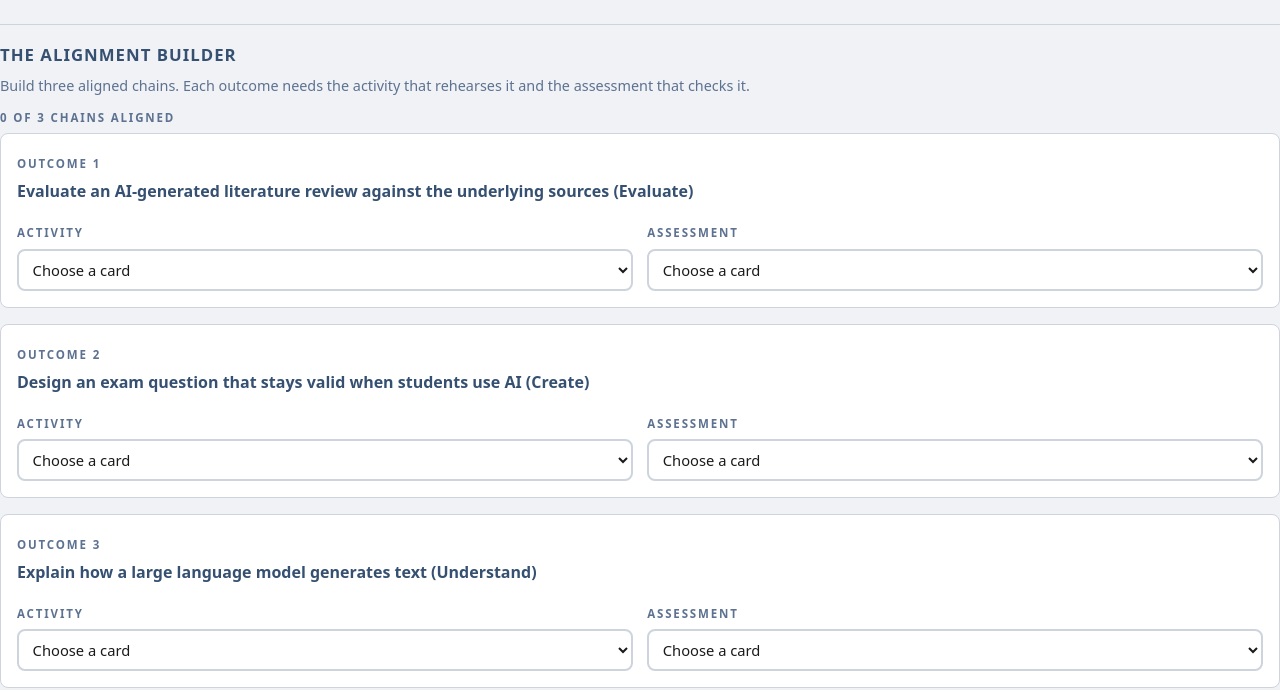
Test: AlignmentBuilder › snaps back misaligned cards with an explanation and does not solve
A distractor snaps back with its own feedback.
Select "Watch a recorded lecture about AI and integrity" in the 1st dropdown labelled "Activity" at (325, 270), box top-left (17, 249), bottom-right (633, 291)
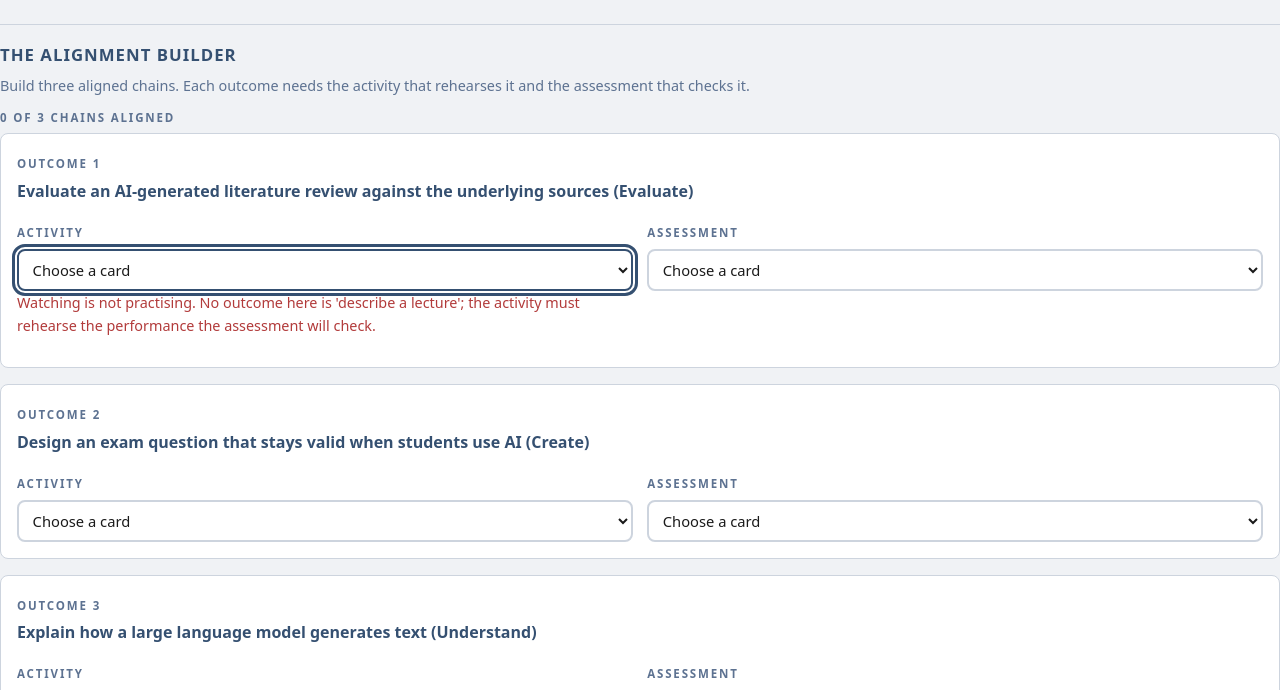
Result: the text "Watching is not practising. No outcome here is 'describe a lecture'; the activity must rehearse the performance the asse" is shown at top-left (17, 293), bottom-right (580, 335)
Another chain's card is misaligned here: generic Bloom-level explanation.
Select "Draft questions with a toetsmatrijs, exchange peer feedback, revise" in the 1st dropdown labelled "Activity" at (325, 270), box top-left (17, 249), bottom-right (633, 291)
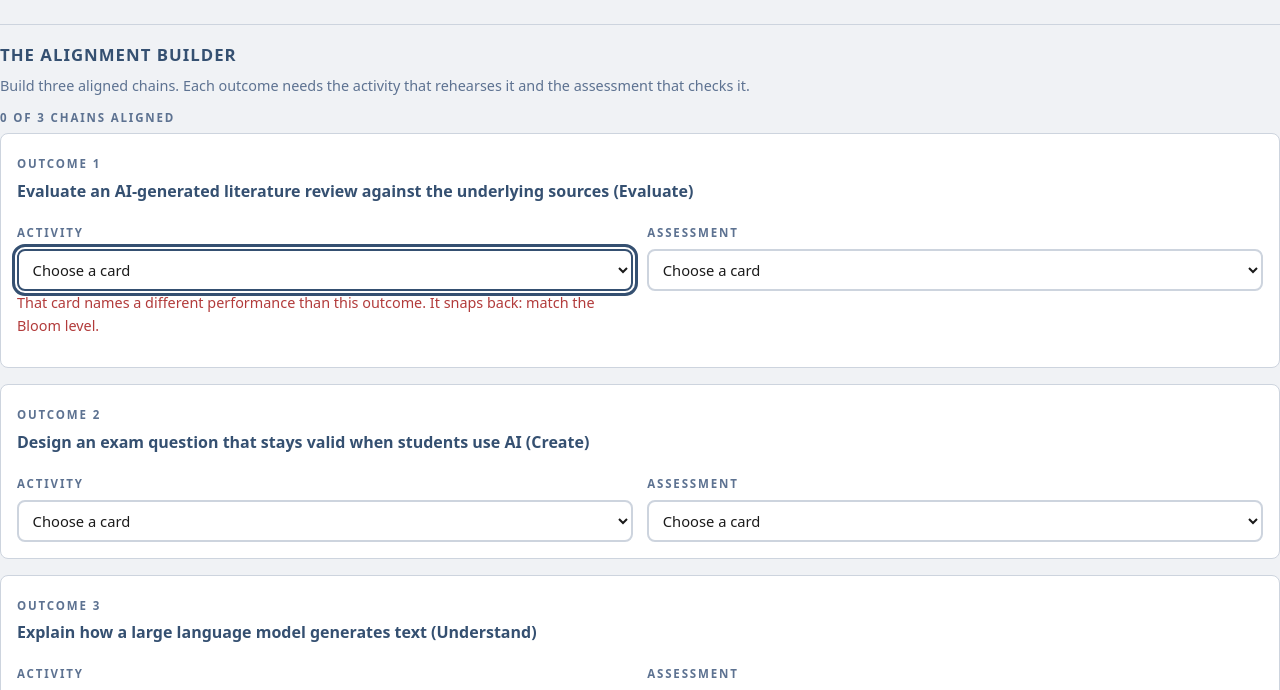
Result: the text "That card names a different performance than this outcome. It snaps back: match the Bloom level." is shown at top-left (17, 293), bottom-right (595, 335)
